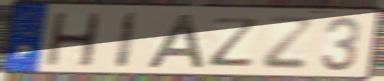3: (320, 15, 363, 72)
A: (144, 12, 208, 71)
H: (42, 11, 103, 68)
I: (113, 10, 140, 71)
Z: (260, 14, 316, 72), (208, 15, 264, 68)
